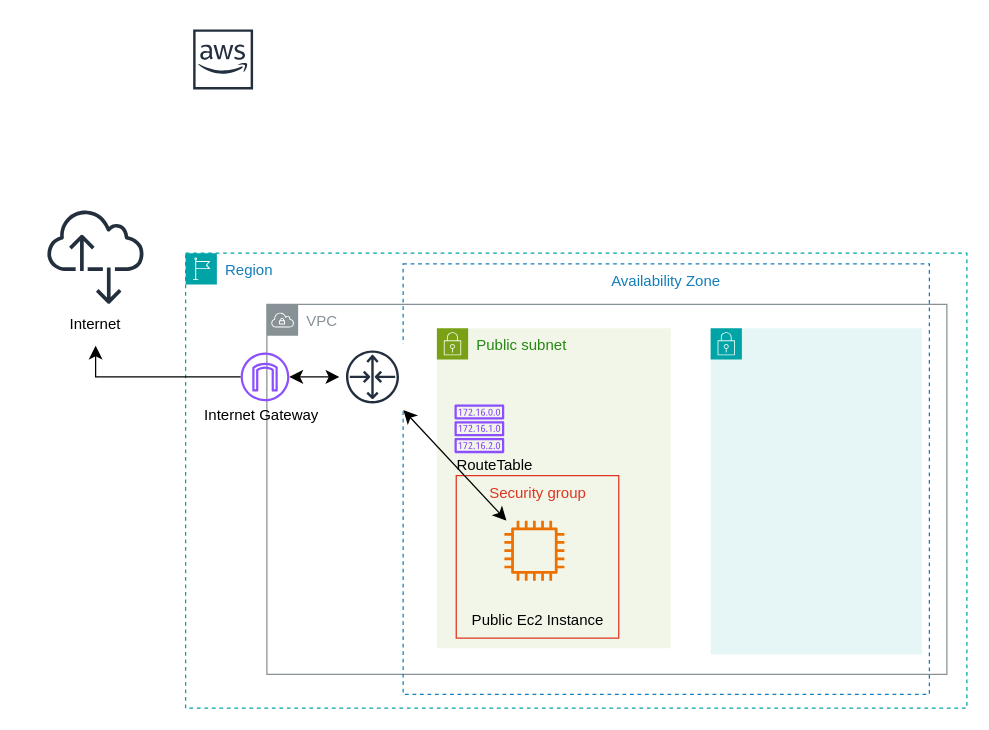
The diagram is 989 pixels wide and 730 high, and some of its shapes have lost their labels. The shapes that lost their labels are listed below. From the top down, each one's centre as x and y in pixels, then its label:
[222,59]: AWS Cloud
[372,376]: Router
[815,490]: Private subnet
